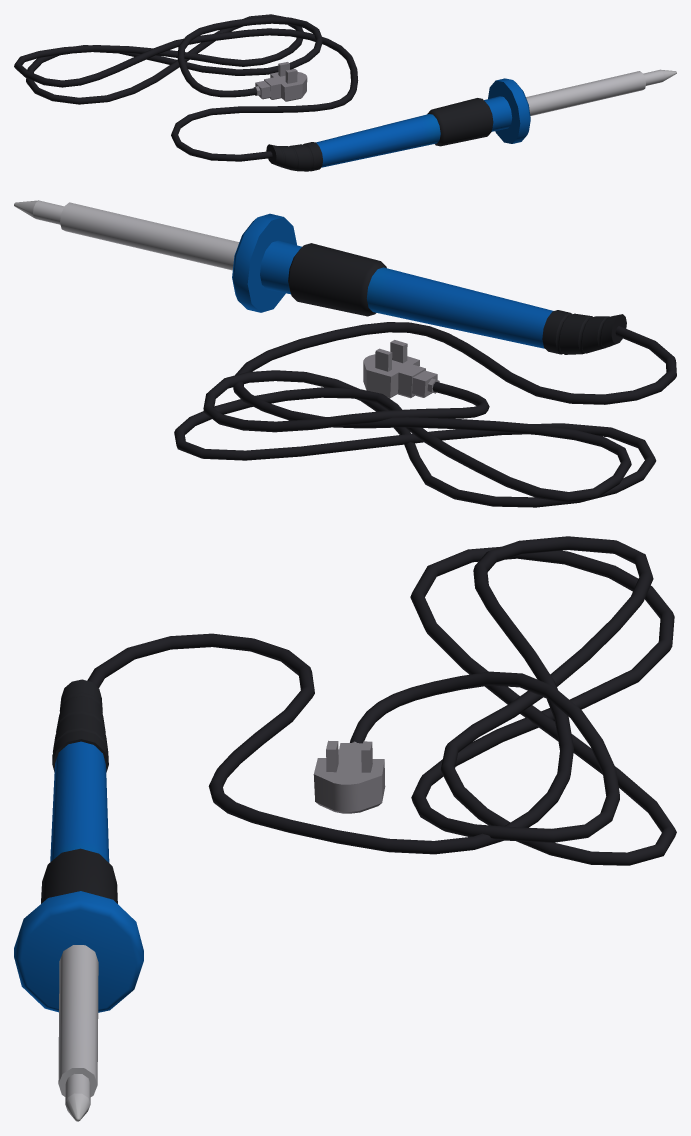
The model's file is Soldering_iron.fbx.
3 renders of one model, top to bottom at view 1: azimuth 30°, elevation 25°; view 2: azimuth 150°, elevation 25°; view 3: azimuth 270°, elevation 25°, orthographic. The views are drawn at different scales.
Visible parts, largest first — view 1: Soldering_iron; view 2: Soldering_iron; view 3: Soldering_iron.
Part boxes in pixels (x1,y1,x2,y2): Soldering_iron: (14,14,676,171); Soldering_iron: (14,200,676,507); Soldering_iron: (14,536,676,1121).
Size of the model in its own units: 62.12 by 33.93 by 7.66.
